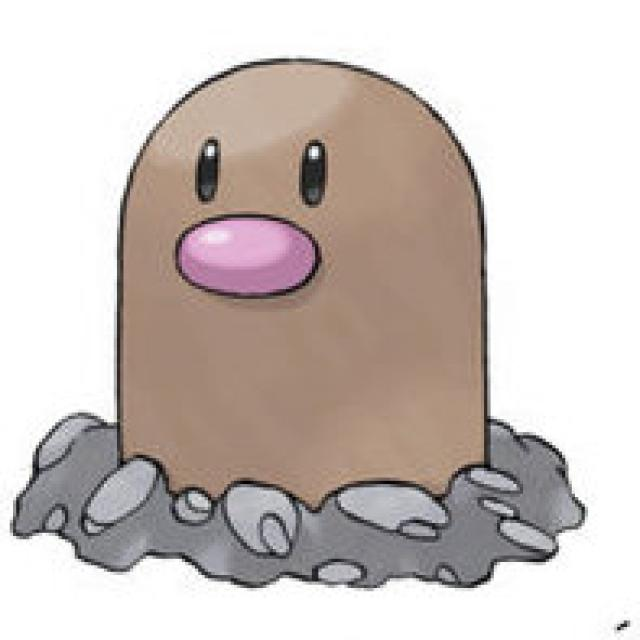Diglett: (111, 57, 487, 517)
